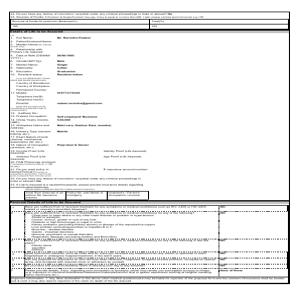table: (10, 11, 289, 28)
text: (10, 31, 158, 191)
